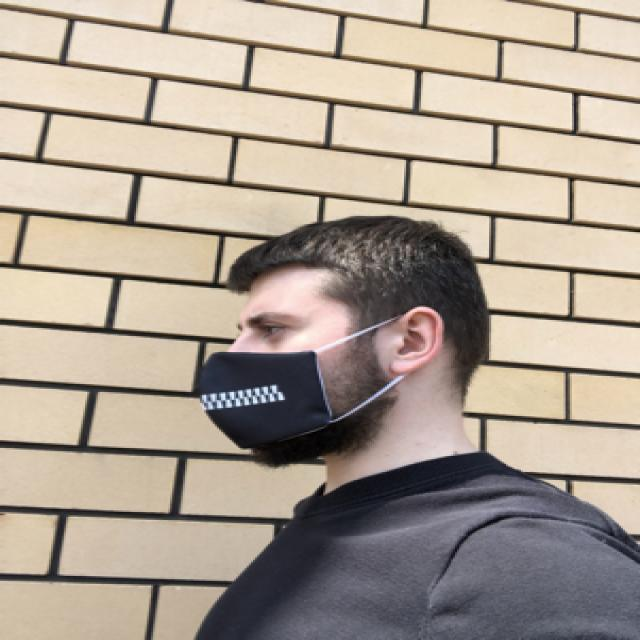mask: (202, 302, 338, 468)
